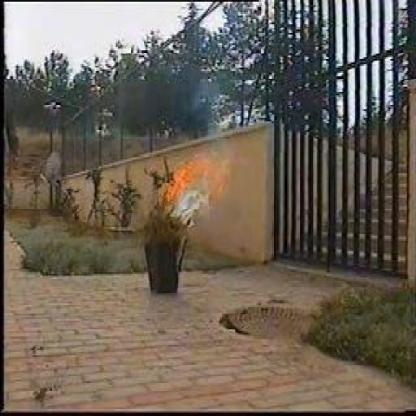-: (179, 188, 205, 218)
foggia-v2-map80-epoch100 - v1 4323: (167, 159, 200, 189)
